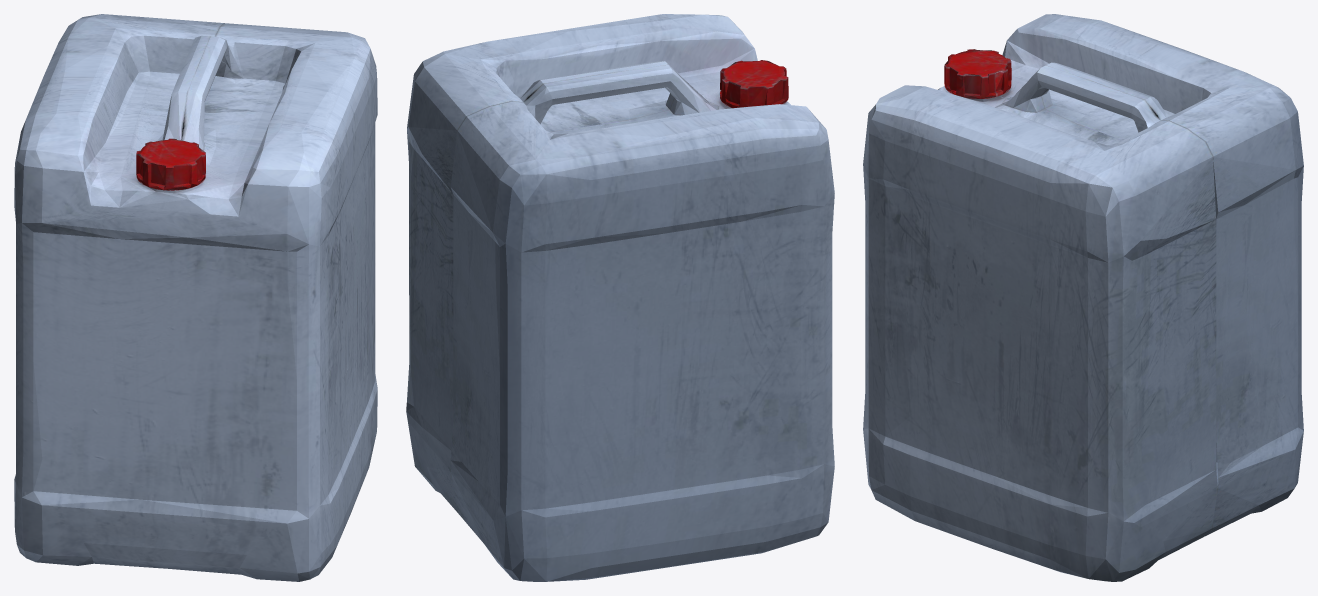
File: Jerry can.fbx
3 views of the same model, side by side, from view 1: azimuth 30°, elevation 25°; view 2: azimuth 150°, elevation 25°; view 3: azimuth 270°, elevation 25° (orthographic). The views are drawn at different scales.
Parts seen in each view (by area): view 1: transform1; view 2: transform1; view 3: transform1.
Boxes of the visible parts, box(x1,y1,x2,y2) form: transform1: box(14, 14, 377, 581); transform1: box(406, 14, 834, 581); transform1: box(863, 14, 1303, 581).
Bounding box in the file's own units: 0.3578 × 0.3895 × 0.3638.
1 material, 1 textured.
